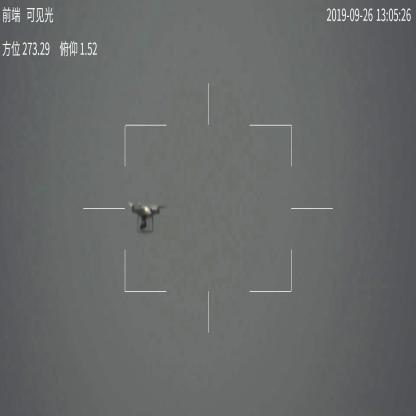uav: (127, 198, 162, 234)
